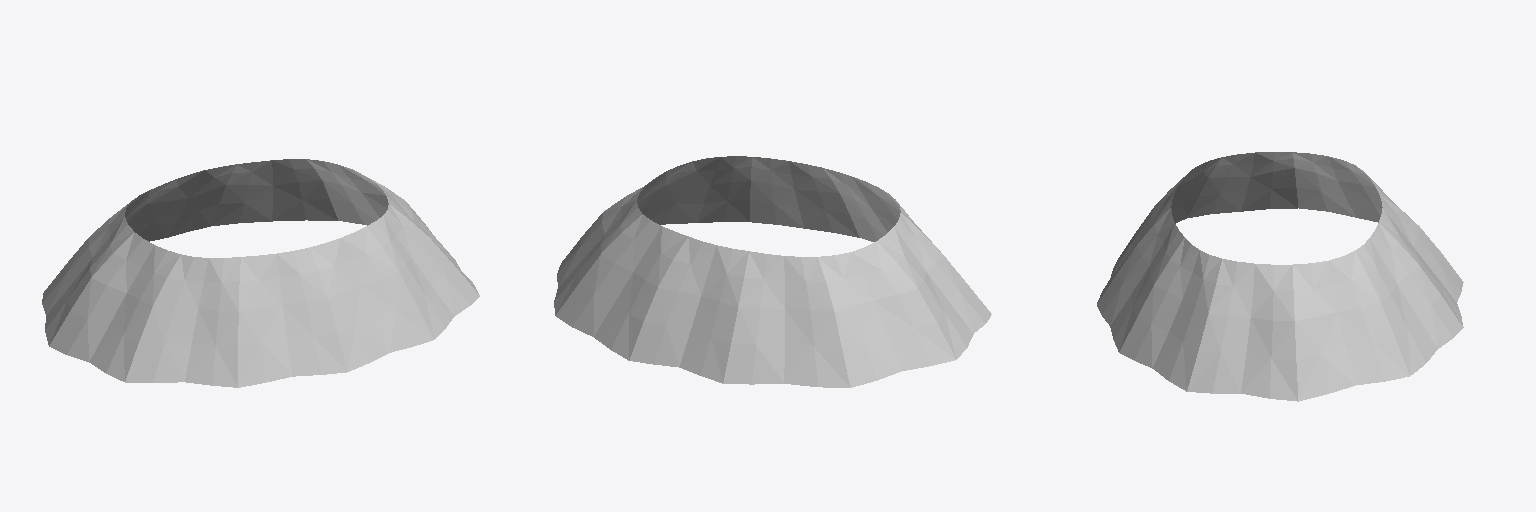
Rendered from 6_peplumfull.obj.
3 views of the same model, side by side, from view 1: azimuth 30°, elevation 25°; view 2: azimuth 150°, elevation 25°; view 3: azimuth 270°, elevation 25° (orthographic).
Parts seen in each view (by area): view 1: peplumfront, peplumback; view 2: peplumback, peplumfront; view 3: peplumfront, peplumback.
Boxes of the visible parts, x1,y1,x2,y2 form: peplumfront: [49, 177, 479, 387]; peplumback: [42, 159, 388, 345]; peplumback: [554, 186, 955, 387]; peplumfront: [637, 156, 991, 359]; peplumfront: [1097, 152, 1297, 401]; peplumback: [1293, 152, 1463, 401].
Bounding box in the file's own units: 17.03 × 4.05 × 13.69.